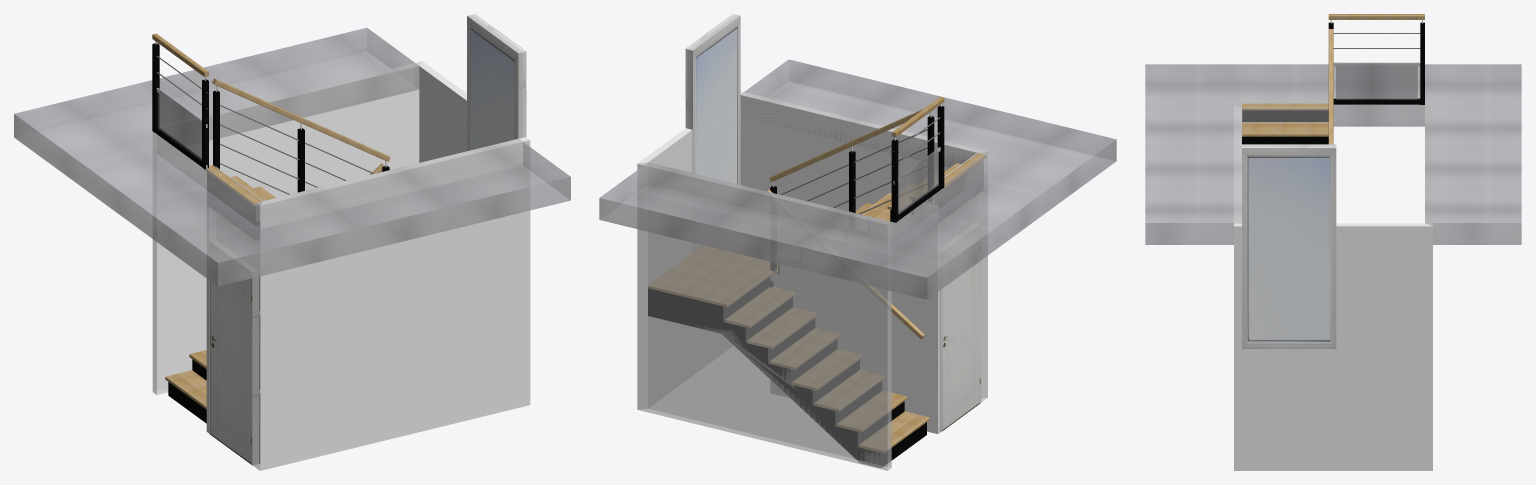
3 views of the same model, side by side, from view 1: azimuth 30°, elevation 25°; view 2: azimuth 150°, elevation 25°; view 3: azimuth 270°, elevation 25° (orthographic). The views are drawn at different scales.
Visible parts, largest first — view 1: _x0023_BEGIN_WALL1111, _x0023_BEGIN_PLATFORMMa_Metaal.jpg1110_x002C_3, _x0023_BEGIN_WALL0_x002C_90_x002C_90_x002C_90_x002C_3, _x0023_BEGIN_WALLM_Deur_x0020_wit.jpg1111, _x0023_BEGIN_WALLM_Raam_x0020_enkel.jpg1111, _x0023_BALUSTER0001, _x0023_TREAD21_FRENE_OLIVIER.jpg1111, _x0023_HANDRAIL21_FRENE_OLIVIER.jpg1111 (×2), _x0023_BOTTOMRAILMa_Metaal.jpg1110_x002C_3, _x0023_RISER0001, _x0023_BOTTOMRAILMetal04.jpg1111, _x0023_STRING1111; view 2: _x0023_BEGIN_WALL0_x002C_90_x002C_90_x002C_90_x002C_3, _x0023_BEGIN_PLATFORMMa_Metaal.jpg1110_x002C_3, _x0023_BEGIN_WALL1111, _x0023_STRING1111, _x0023_TREAD21_FRENE_OLIVIER.jpg1111, _x0023_BEGIN_WALLM_Raam_x0020_enkel.jpg1111, _x0023_BEGIN_WALLM_Deur_x0020_wit.jpg1111, _x0023_STRING0001, _x0023_RISER0001, _x0023_BALUSTER0001, _x0023_HANDRAIL21_FRENE_OLIVIER.jpg1111 (×2), _x0023_BOTTOMRAILMa_Metaal.jpg1110_x002C_3 (+1 smaller); view 3: _x0023_BEGIN_PLATFORMMa_Metaal.jpg1110_x002C_3, _x0023_BEGIN_WALL1111, _x0023_BEGIN_WALLM_Raam_x0020_enkel.jpg1111, _x0023_BOTTOMRAILMa_Metaal.jpg1110_x002C_3, _x0023_BEGIN_WALL0_x002C_90_x002C_90_x002C_90_x002C_3, _x0023_TREAD21_FRENE_OLIVIER.jpg1111, _x0023_RISER0001, _x0023_HANDRAIL21_FRENE_OLIVIER.jpg1111 (×2), _x0023_BOTTOMRAIL0001, _x0023_BALUSTER0001.
Part boxes in pixels (x1,y1,x2,y2): _x0023_BEGIN_WALL1111: (260, 61, 530, 470); _x0023_BEGIN_PLATFORMMa_Metaal.jpg1110_x002C_3: (14, 27, 570, 286); _x0023_BEGIN_WALL0_x002C_90_x002C_90_x002C_90_x002C_3: (152, 61, 421, 470); _x0023_BEGIN_WALLM_Deur_x0020_wit.jpg1111: (209, 241, 260, 465); _x0023_BEGIN_WALLM_Raam_x0020_enkel.jpg1111: (467, 14, 526, 150); _x0023_BALUSTER0001: (152, 43, 389, 192); _x0023_TREAD21_FRENE_OLIVIER.jpg1111: (165, 165, 275, 409); _x0023_HANDRAIL21_FRENE_OLIVIER.jpg1111 (×2): (152, 33, 390, 174); _x0023_BOTTOMRAILMa_Metaal.jpg1110_x002C_3: (158, 89, 201, 160); _x0023_RISER0001: (168, 173, 255, 423); _x0023_BOTTOMRAILMetal04.jpg1111: (156, 55, 374, 194); _x0023_STRING1111: (206, 186, 209, 432); _x0023_BEGIN_WALL0_x002C_90_x002C_90_x002C_90_x002C_3: (637, 152, 987, 470); _x0023_BEGIN_PLATFORMMa_Metaal.jpg1110_x002C_3: (599, 59, 1116, 299); _x0023_BEGIN_WALL1111: (637, 91, 987, 409); _x0023_STRING1111: (770, 200, 939, 433); _x0023_TREAD21_FRENE_OLIVIER.jpg1111: (648, 153, 986, 453); _x0023_BEGIN_WALLM_Raam_x0020_enkel.jpg1111: (685, 14, 740, 251); _x0023_BEGIN_WALLM_Deur_x0020_wit.jpg1111: (940, 224, 981, 431); _x0023_STRING0001: (648, 281, 879, 467); _x0023_RISER0001: (724, 171, 968, 467); _x0023_BALUSTER0001: (770, 105, 944, 270); _x0023_HANDRAIL21_FRENE_OLIVIER.jpg1111 (×2): (767, 96, 944, 339); _x0023_BOTTOMRAILMa_Metaal.jpg1110_x002C_3: (898, 148, 938, 214); _x0023_BEGIN_PLATFORMMa_Metaal.jpg1110_x002C_3: (1145, 64, 1521, 244); _x0023_BEGIN_WALL1111: (1234, 105, 1432, 470); _x0023_BEGIN_WALLM_Raam_x0020_enkel.jpg1111: (1242, 144, 1336, 348); _x0023_BOTTOMRAILMa_Metaal.jpg1110_x002C_3: (1336, 62, 1417, 99); _x0023_BEGIN_WALL0_x002C_90_x002C_90_x002C_90_x002C_3: (1235, 105, 1432, 226); _x0023_TREAD21_FRENE_OLIVIER.jpg1111: (1242, 103, 1328, 136); _x0023_RISER0001: (1242, 110, 1328, 144); _x0023_HANDRAIL21_FRENE_OLIVIER.jpg1111 (×2): (1328, 14, 1424, 144); _x0023_BOTTOMRAIL0001: (1333, 98, 1424, 104); _x0023_BALUSTER0001: (1328, 22, 1424, 104).
Size of the model in its own units: 3.98 by 3.85 by 3.9.
17 materials, 7 textured.
